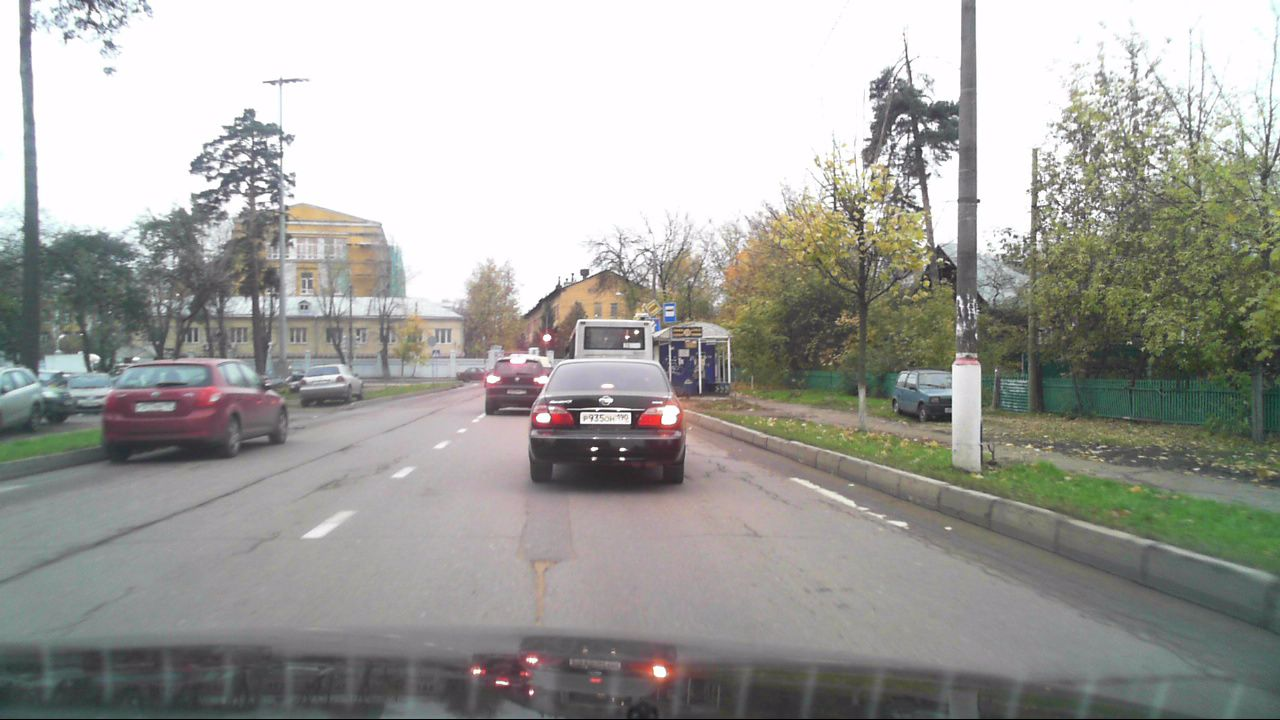main road: (645, 299, 661, 317)
